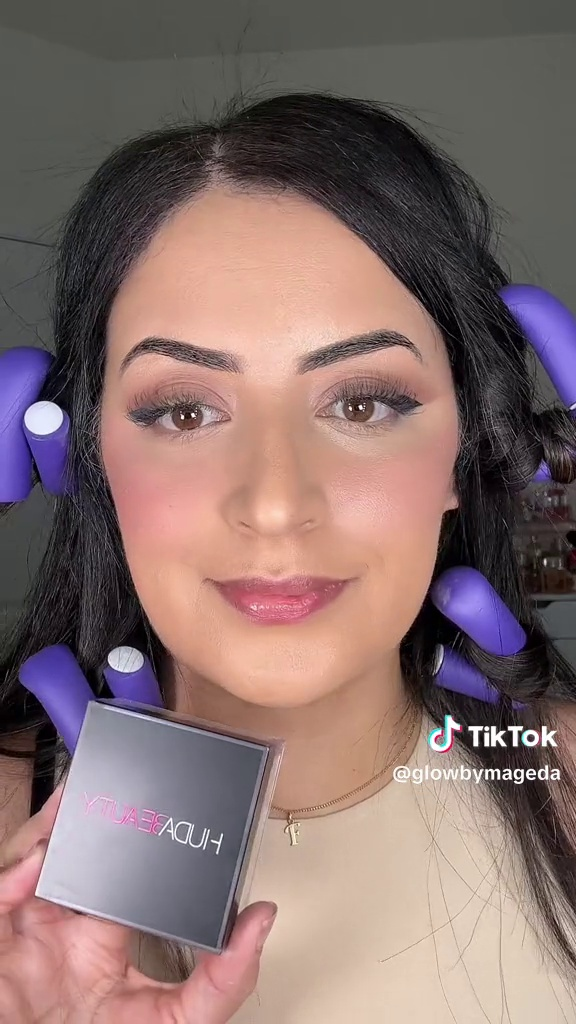train' :'yolo_data/train/images',: (21, 689, 289, 963)
